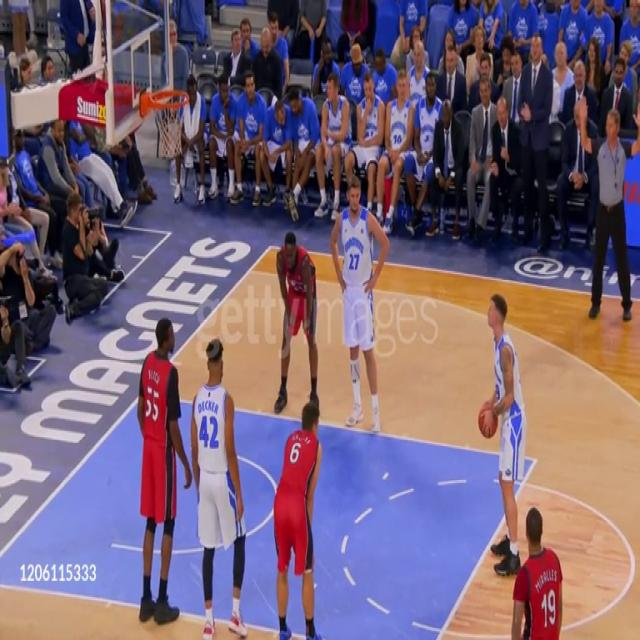ball: (477, 400, 498, 440)
